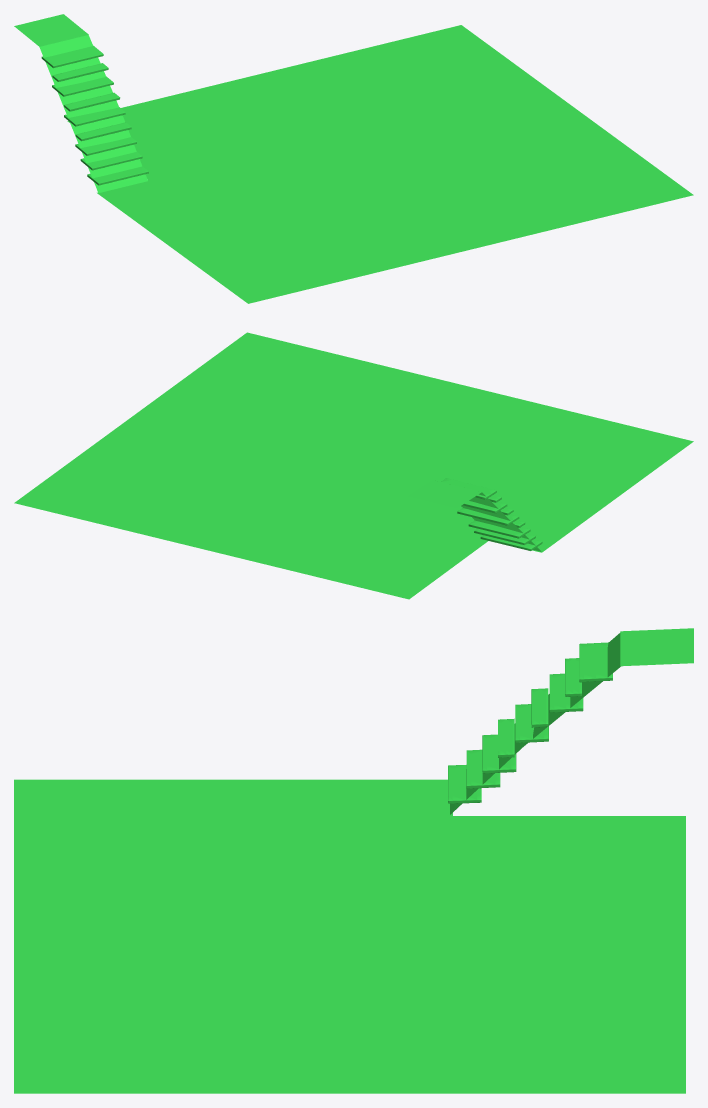
Rendered from Navmesh06.glb.
3 views of the same model, one above another, from view 1: azimuth 30°, elevation 25°; view 2: azimuth 150°, elevation 25°; view 3: azimuth 270°, elevation 25° (orthographic). The views are drawn at different scales.
Visible parts, largest first — view 1: Plane, smooth_step_8_2, smooth_step_6, smooth_step_4, smooth_step_0, smooth_step_2, smooth_step_1, smooth_step_3, smooth_step_7, smooth_step_5; view 2: Plane, smooth_step_2, smooth_step_4; view 3: Plane, smooth_step_8_2, smooth_step_0, smooth_step_1, smooth_step_2, smooth_step_4, smooth_step_6, smooth_step_5.
Part boxes in pixels (box(x1,y1,x2,y2)): Plane: box(14, 14, 693, 303); smooth_step_8_2: box(41, 45, 103, 68); smooth_step_6: box(52, 76, 113, 96); smooth_step_4: box(64, 107, 125, 126); smooth_step_0: box(87, 166, 148, 185); smooth_step_2: box(75, 137, 136, 155); smooth_step_1: box(80, 152, 142, 170); smooth_step_3: box(75, 122, 131, 141); smooth_step_7: box(52, 63, 108, 81); smooth_step_5: box(64, 92, 120, 111); Plane: box(14, 332, 693, 599); smooth_step_2: box(468, 520, 530, 538); smooth_step_4: box(457, 508, 519, 525); Plane: box(14, 628, 693, 1093); smooth_step_8_2: box(579, 642, 612, 682); smooth_step_0: box(448, 765, 481, 803); smooth_step_1: box(466, 749, 500, 788); smooth_step_2: box(482, 734, 516, 773); smooth_step_4: box(515, 704, 548, 742); smooth_step_6: box(549, 673, 583, 712); smooth_step_5: box(531, 688, 548, 727).
Bounding box in the file's own units: 13.28 × 3.02 × 12.14.
